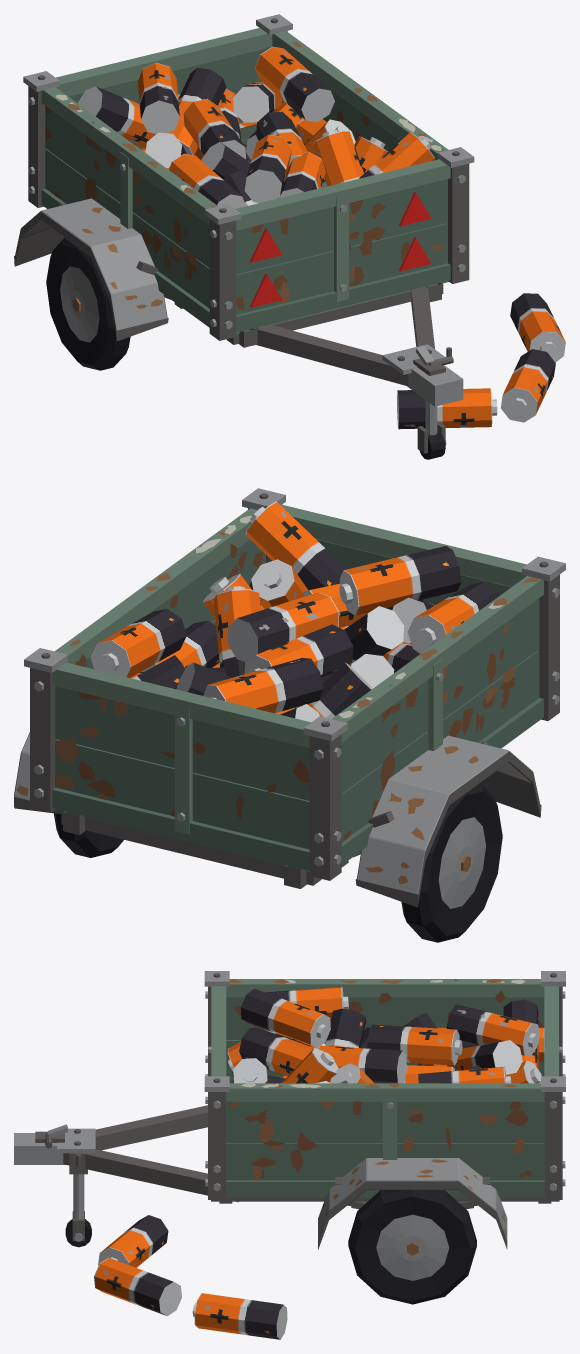
The model's file is battery2_Optimized_v2.fbx.
3 views of the same model, one above another, from view 1: azimuth 30°, elevation 25°; view 2: azimuth 150°, elevation 25°; view 3: azimuth 270°, elevation 25° (orthographic). The views are drawn at different scales.
Parts seen in each view (by area): view 1: Static_Body, Battery_Pile, Wheel_Left; view 2: Static_Body, Battery_Pile, Wheel_Left, Wheel_Right; view 3: Static_Body, Battery_Pile, Wheel_Right.
Part boxes in pixels (x1,y1,x2,y2): Static_Body: (14, 14, 474, 459); Battery_Pile: (78, 46, 565, 429); Wheel_Left: (46, 238, 130, 370); Static_Body: (14, 488, 565, 907); Battery_Pile: (90, 501, 499, 722); Wheel_Left: (401, 783, 502, 942); Wheel_Right: (54, 813, 123, 857); Static_Body: (14, 971, 565, 1249); Battery_Pile: (94, 987, 544, 1339); Wheel_Right: (348, 1190, 476, 1304).
Bounding box in the file's own units: 351 × 195 × 443.
Materials: 1 (1 with a texture image).
